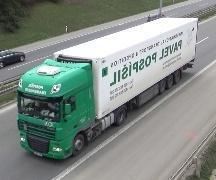Car: (0, 50, 26, 68)
Truck: (15, 14, 202, 166)
